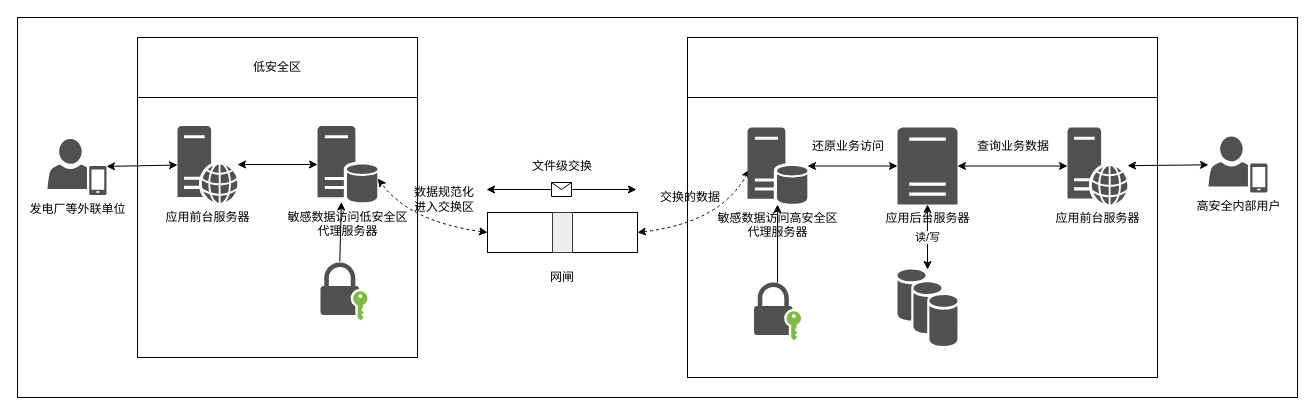
This 1315x415 diagram has some shape labels left out. Each missing label, with the box of its shape:
DMZ区加解密、认证中心: (320, 262, 367, 320)
应用数据库: (897, 269, 957, 346)
调度Ⅲ区加解密、认证中心: (754, 282, 800, 340)
高安全区: (686, 36, 1158, 98)
